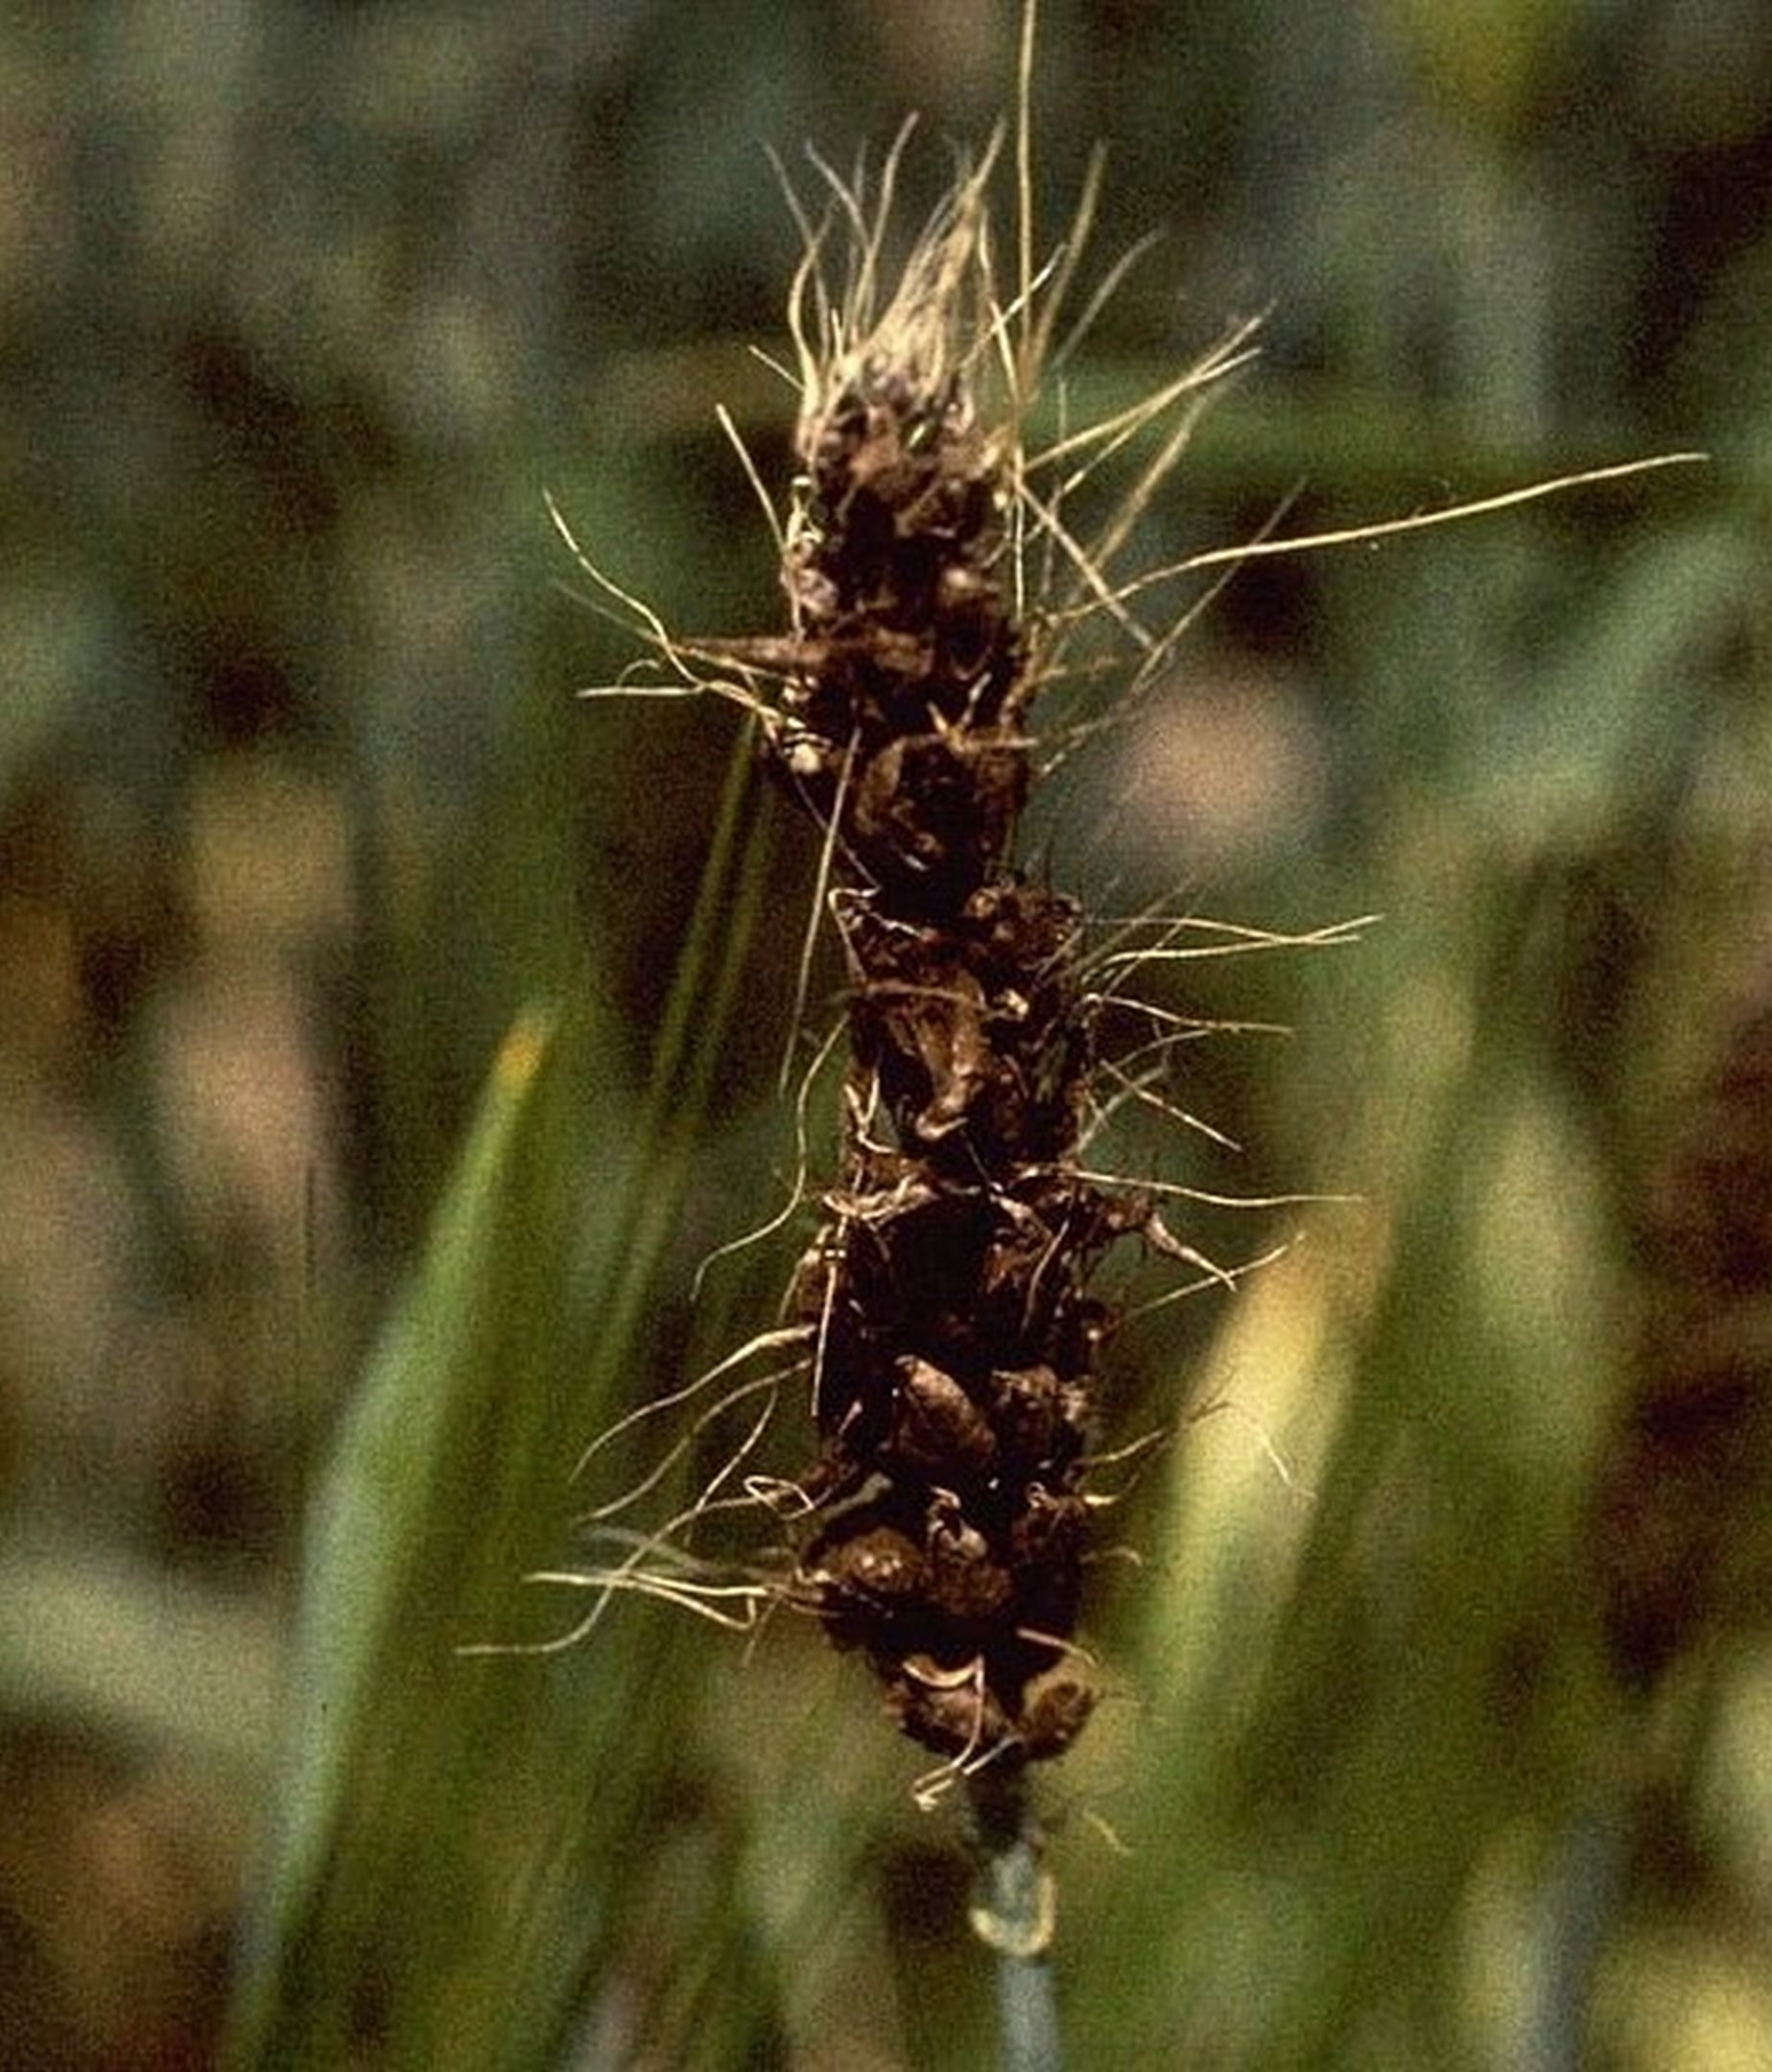Wheat Loose Smut: (668, 306, 1234, 1801)
